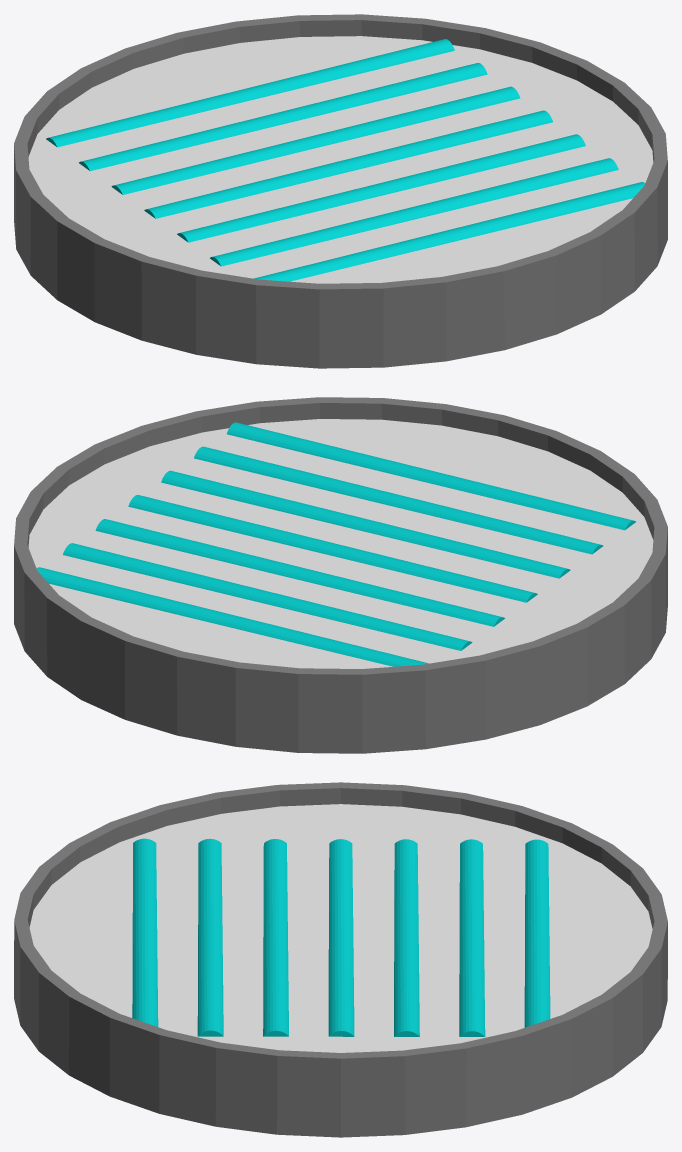
File: Checkers Gray.fbx
The picture shows the model from 3 angles, top to bottom: view 1: azimuth 30°, elevation 25°; view 2: azimuth 150°, elevation 25°; view 3: azimuth 270°, elevation 25°; orthographic projection.
Parts seen in each view (by area): view 1: Checker, Cylinder.002, Cylinder, Cylinder.001, Cylinder.003, Cylinder.004, Cylinder.005, Cylinder.006; view 2: Checker, Cylinder.003, Cylinder.004, Cylinder.006, Cylinder.001, Cylinder.005, Cylinder.002, Cylinder; view 3: Checker, Cylinder.004, Cylinder.001, Cylinder.003, Cylinder.005, Cylinder.002, Cylinder.006, Cylinder.
Boxes of the visible parts, <box> form: Checker: <box>14,14,667,368</box>; Cylinder.002: <box>111,86,520,194</box>; Cylinder: <box>46,39,454,147</box>; Cylinder.001: <box>79,63,487,171</box>; Cylinder.003: <box>144,110,552,218</box>; Cylinder.004: <box>177,134,585,242</box>; Cylinder.005: <box>210,158,618,266</box>; Cylinder.006: <box>254,182,644,281</box>; Checker: <box>14,397,667,753</box>; Cylinder.003: <box>128,495,537,602</box>; Cylinder.004: <box>161,470,570,578</box>; Cylinder.006: <box>227,422,635,530</box>; Cylinder.001: <box>63,543,472,650</box>; Cylinder.005: <box>194,446,603,554</box>; Cylinder.002: <box>95,519,504,626</box>; Cylinder: <box>36,567,428,666</box>; Checker: <box>14,782,667,1137</box>; Cylinder.004: <box>263,839,288,1036</box>; Cylinder.001: <box>459,839,485,1036</box>; Cylinder.003: <box>328,839,354,1036</box>; Cylinder.005: <box>197,838,223,1036</box>; Cylinder.002: <box>394,839,419,1036</box>; Cylinder.006: <box>132,838,158,1026</box>; Cylinder: <box>524,839,550,1027</box>.
Size of the model in its own units: 200 by 27.14 by 200.
